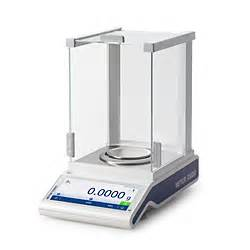Industrial Scale: (38, 26, 200, 228)
